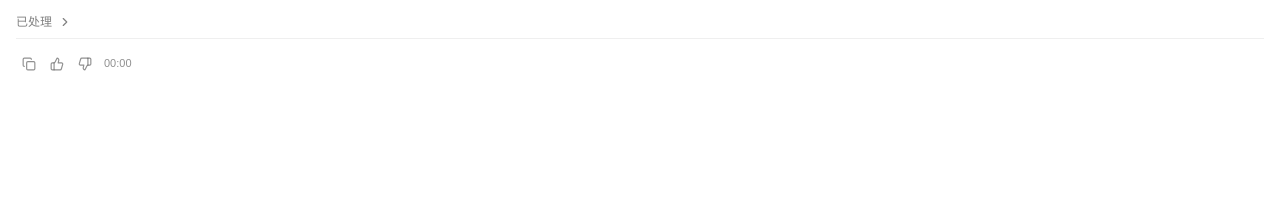
ConversationView › keeps read failures expandable without showing arguments
Click the button with aria-label "展开回复 已处理": [44, 22] box [16,12,72,32]
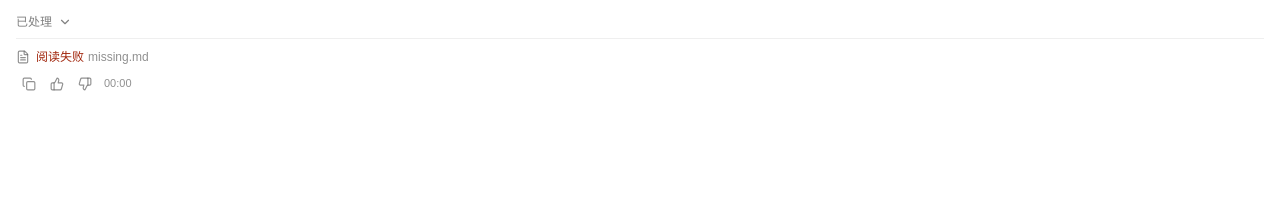
Check: the text "ENOENT" is not shown
Click the button with aria-label "展开工具输出 read": [60, 57] box [16,47,1264,67]
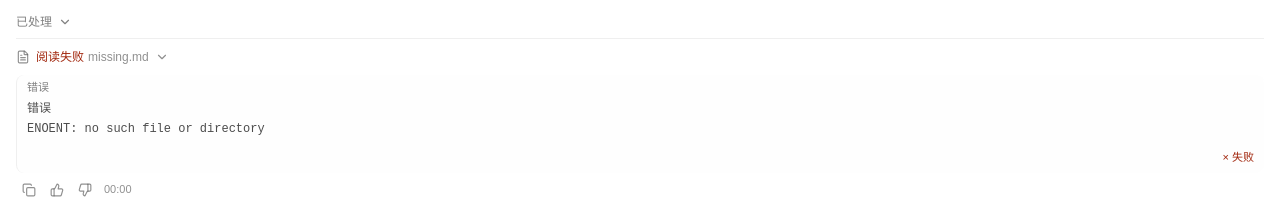
Check: the text "错误 ENOENT: no such file or directory" is shown, box [27,102,265,136]
Check: the text "× 失败" is shown, box [1222,151,1254,163]
